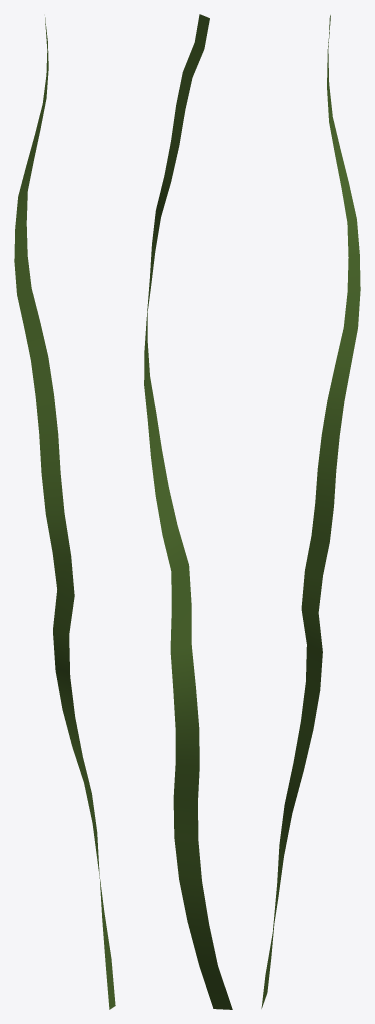
File: plant_swamp_kelp_long_solo_I.fbx
The picture shows the model from 3 angles, left to right: view 1: azimuth 90°, elevation 25°; view 2: azimuth 150°, elevation 25°; view 3: azimuth 270°, elevation 25°; orthographic projection. The views are drawn at different scales.
Visible parts, largest first — view 1: plant_swamp_kelp_long_solo_I; view 2: plant_swamp_kelp_long_solo_I; view 3: plant_swamp_kelp_long_solo_I.
Part boxes in pixels (left/top/right/bottom): plant_swamp_kelp_long_solo_I: left=14, top=17, right=115, bottom=1009; plant_swamp_kelp_long_solo_I: left=144, top=14, right=232, bottom=1009; plant_swamp_kelp_long_solo_I: left=261, top=15, right=360, bottom=1008.
Bounding box in the file's own units: 17.5 × 280 × 25.59.
